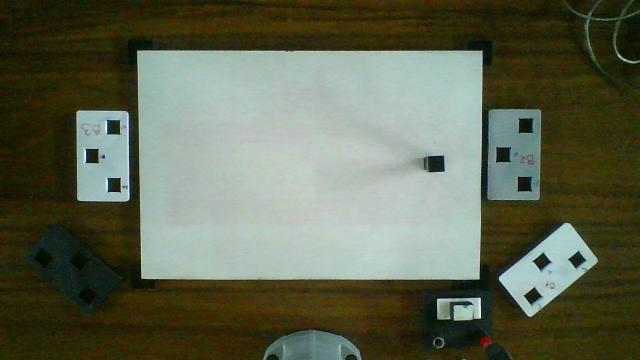peca_preta: (428, 157, 445, 172)
